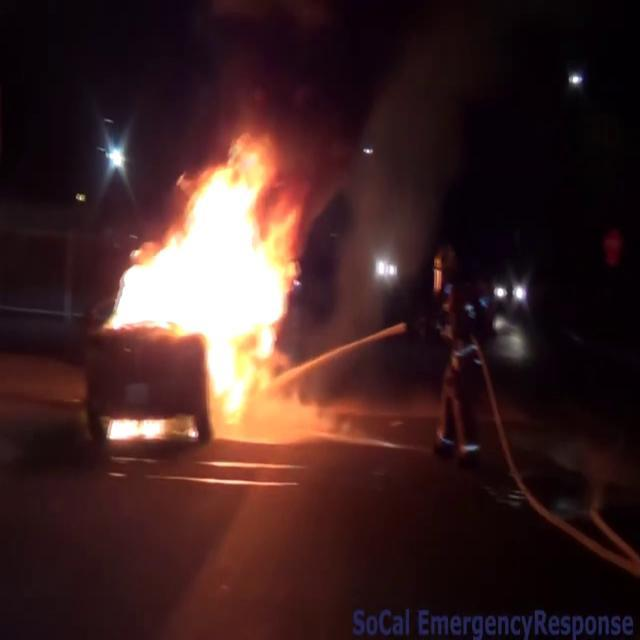Fire: (100, 132, 306, 426), (104, 408, 168, 448)
